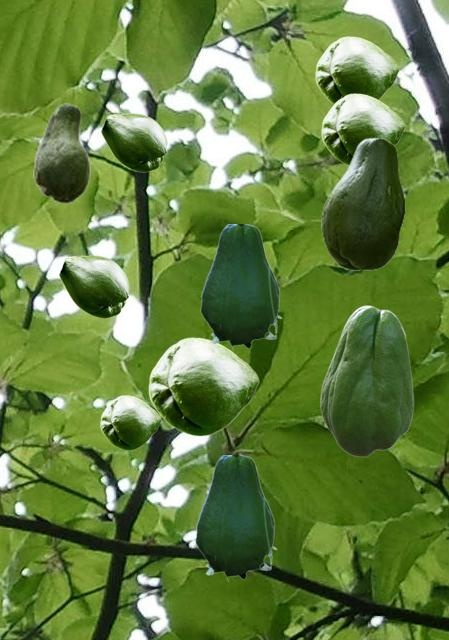sayote: (320, 305, 413, 456), (321, 137, 404, 269), (148, 337, 258, 435), (195, 455, 276, 581), (200, 224, 281, 350), (321, 93, 404, 165), (33, 103, 89, 203), (315, 36, 398, 103), (59, 255, 128, 317), (101, 113, 166, 171), (100, 395, 160, 449)
